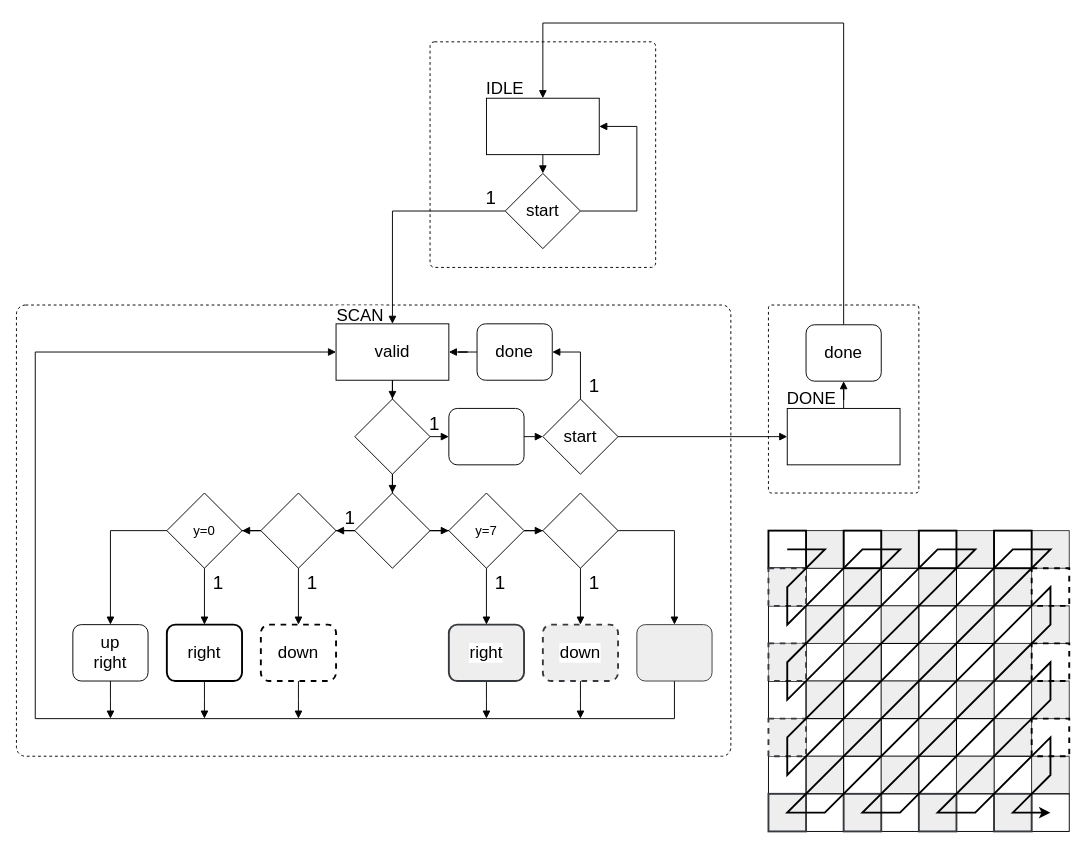
This 1087x849 diagram has some shape labels left out. The shapes that lost their labels are listed below. From the top down, each one's box as (x1, y1, x2, y2) in pixels, then its label:
(354, 398, 430, 474): y=7 and x=7
(448, 407, 524, 465): zero
(260, 492, 336, 568): x=7
(354, 492, 430, 568): y[0] xnor x[0]
(542, 492, 618, 568): x=0
(636, 624, 712, 681): down left
